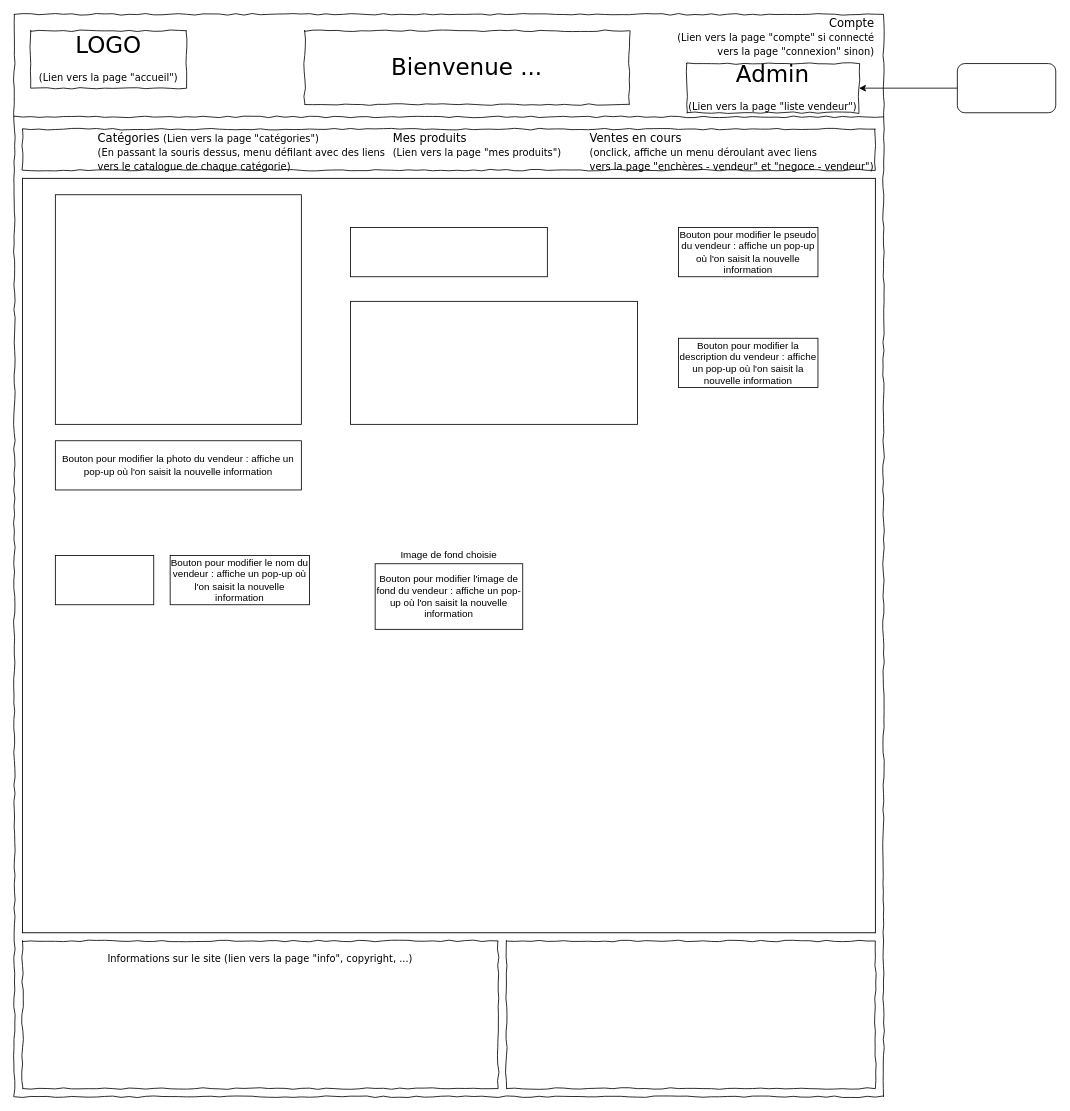
This 1070x1111 diagram has some shape labels left out. The centre of each missing label's shape, as x and y in pixels:
"Description personnelle du vendeur" belongs at (494,362).
"Nom du vendeur" belongs at (104,580).
"Nous contacter" belongs at (690,1014).
"Photo choisie par le vendeur" belongs at (178,309).
"Pseudo du vendeur" belongs at (448,252).
"Uniquement visible si le vendeur connecté est un admin" belongs at (1006,88).
